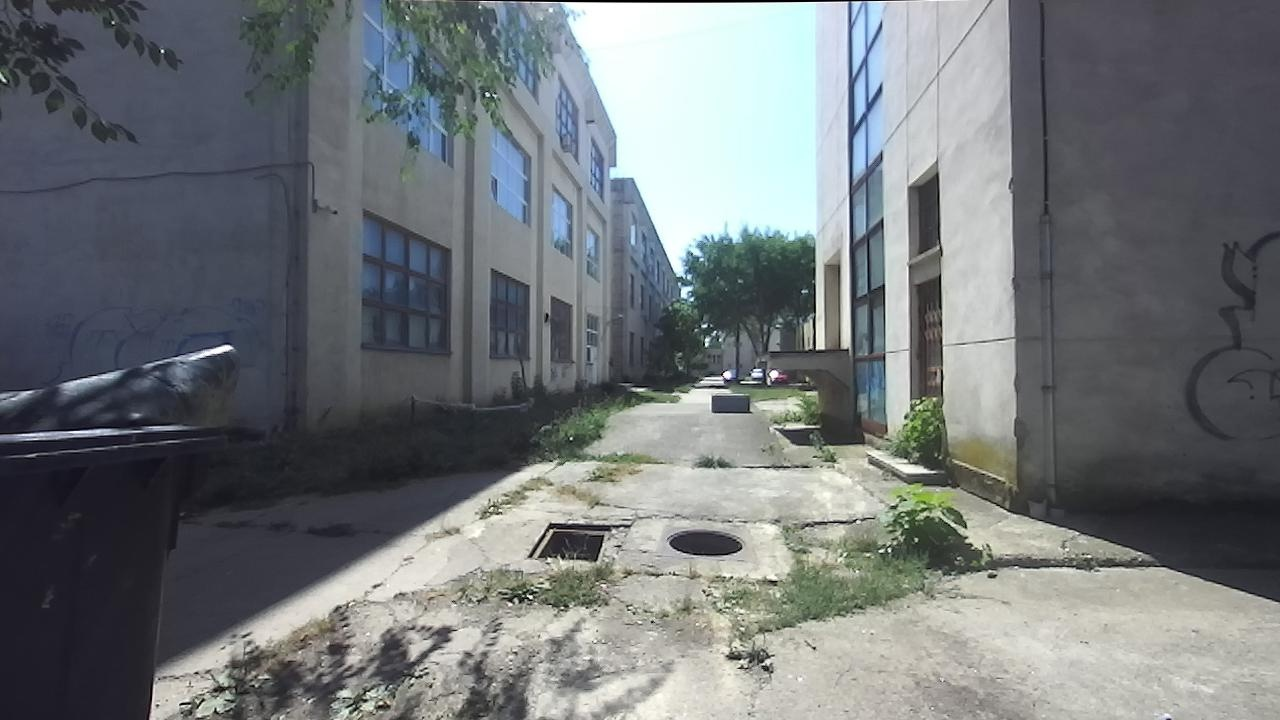drain: (524, 514, 613, 565), (662, 522, 747, 564)
